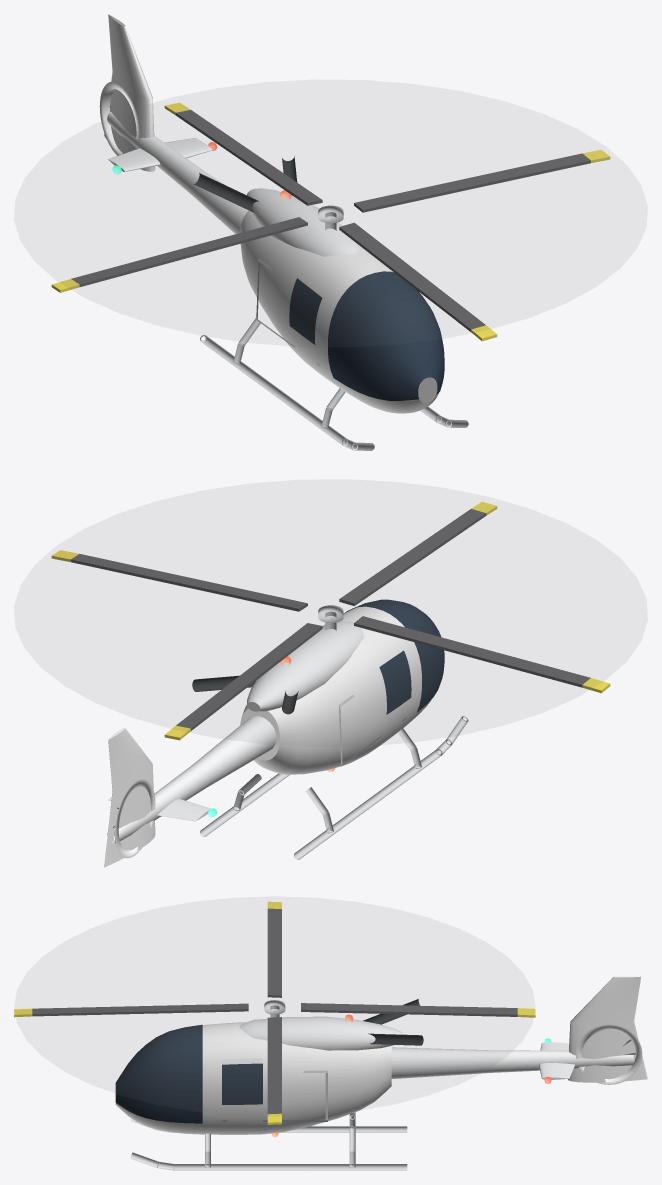
3 views of the same model, one above another, from view 1: azimuth 30°, elevation 25°; view 2: azimuth 150°, elevation 25°; view 3: azimuth 270°, elevation 25° (orthographic). The views are drawn at different scales.
Visible parts, largest first — view 1: airframe, rotor; view 2: airframe, rotor; view 3: airframe, rotor.
Part boxes in pixels (x1,y1,x2,y2): airframe: [99, 14, 468, 450]; rotor: [51, 102, 610, 341]; airframe: [104, 599, 468, 867]; rotor: [51, 501, 610, 740]; airframe: [115, 976, 647, 1170]; rotor: [14, 901, 535, 1124].
Size of the model in its own units: 11 by 4.07 by 13.36.
